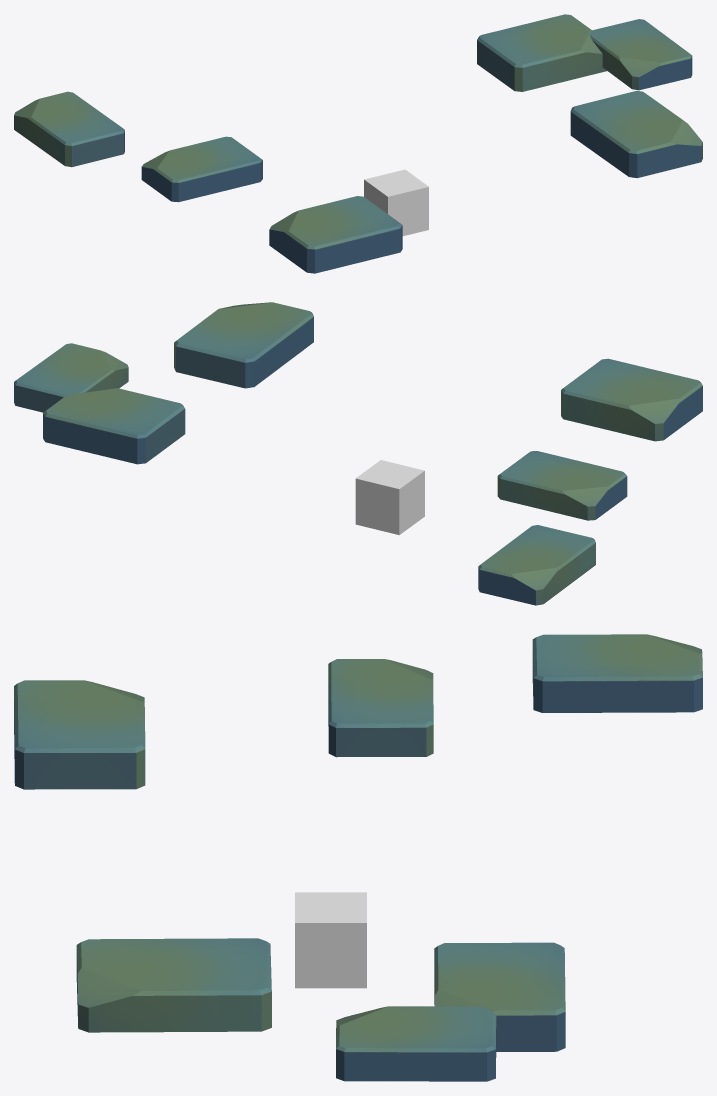
Rendered from battlescence-4-floor012.fbx.
3 renders of one model, top to bottom at view 1: azimuth 30°, elevation 25°; view 2: azimuth 150°, elevation 25°; view 3: azimuth 270°, elevation 25°, orthographic. The views are drawn at different scales.
Parts seen in each view (by area): view 1: Cube.074, Cube.087, Cube.072, Cube.089, Cube.088, Cube.073, battlescence-4-floor012; view 2: Cube.074, Cube.087, Cube.072, Cube.089, Cube.088, Cube.073, battlescence-4-floor012; view 3: Cube.074, Cube.087, Cube.089, Cube.073, Cube.072, Cube.088, battlescence-4-floor012.
Boxes of the visible parts, bbox=[...] form: Cube.074: bbox=[570, 90, 702, 178]; Cube.087: bbox=[269, 196, 402, 273]; Cube.072: bbox=[477, 14, 606, 91]; Cube.089: bbox=[14, 91, 124, 167]; Cube.088: bbox=[141, 136, 262, 202]; Cube.073: bbox=[589, 19, 692, 90]; battlescence-4-floor012: bbox=[364, 169, 428, 236]; Cube.074: bbox=[174, 302, 313, 388]; Cube.087: bbox=[561, 358, 702, 441]; Cube.072: bbox=[43, 388, 185, 464]; Cube.089: bbox=[478, 525, 595, 605]; Cube.088: bbox=[497, 451, 627, 520]; Cube.073: bbox=[14, 343, 128, 412]; battlescence-4-floor012: bbox=[355, 460, 424, 535]; Cube.074: bbox=[76, 938, 271, 1032]; Cube.087: bbox=[14, 680, 145, 789]; Cube.089: bbox=[532, 634, 702, 712]; Cube.073: bbox=[336, 1006, 496, 1081]; Cube.072: bbox=[434, 942, 565, 1051]; Cube.088: bbox=[328, 659, 433, 757]; battlescence-4-floor012: bbox=[295, 892, 366, 988].
Size of the model in its own units: 1694 by 290 by 1184.
